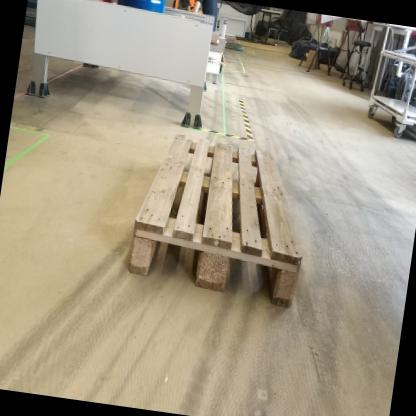BoxFace: (121, 128, 305, 314)
